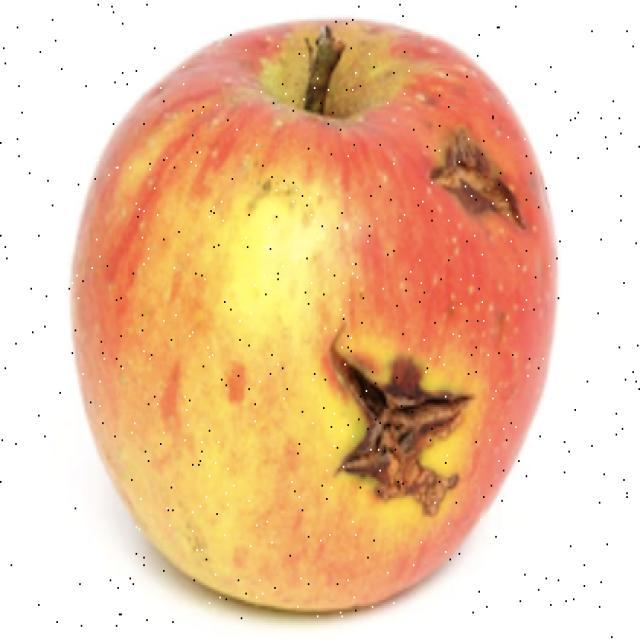Rotten: (73, 25, 552, 615)
